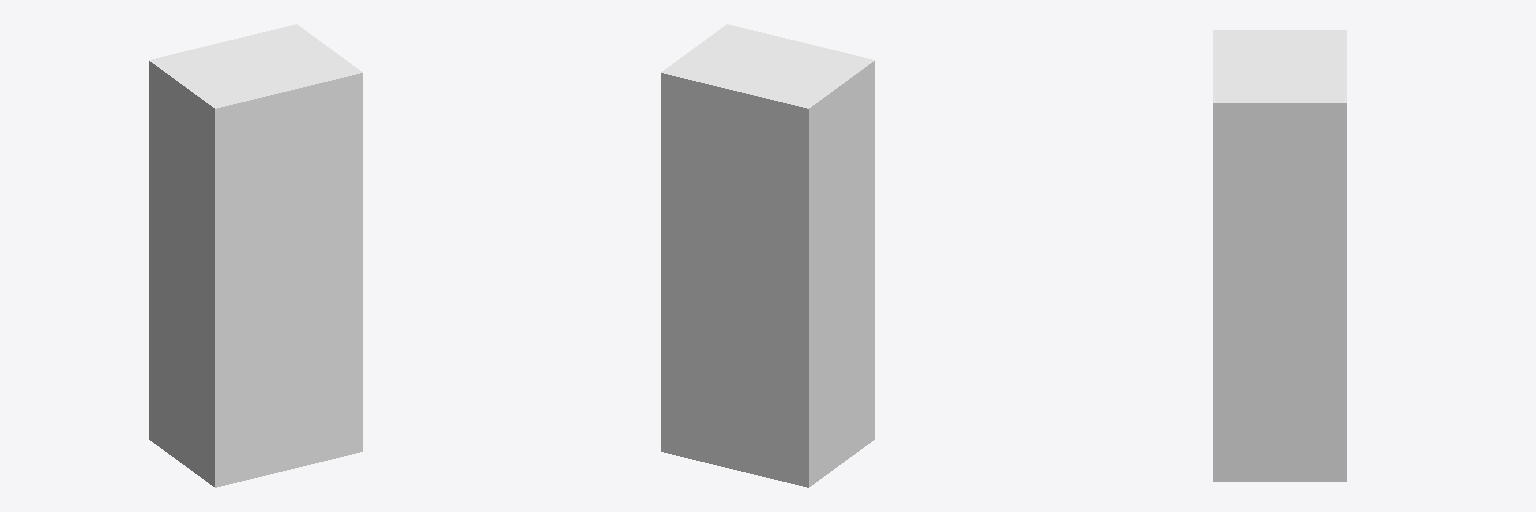
Rendered from robot_leg.obj.
3 renders of one model, left to right at view 1: azimuth 30°, elevation 25°; view 2: azimuth 150°, elevation 25°; view 3: azimuth 270°, elevation 25°, orthographic.
Visible parts, largest first — view 1: object 1; view 2: object 1; view 3: object 1.
Boxes of the visible parts, x1,y1,x2,y2 form: object 1: [149, 24, 362, 487]; object 1: [661, 24, 874, 487]; object 1: [1213, 30, 1346, 481].
Size of the model in its own units: 0.9 by 2.2 by 0.7.